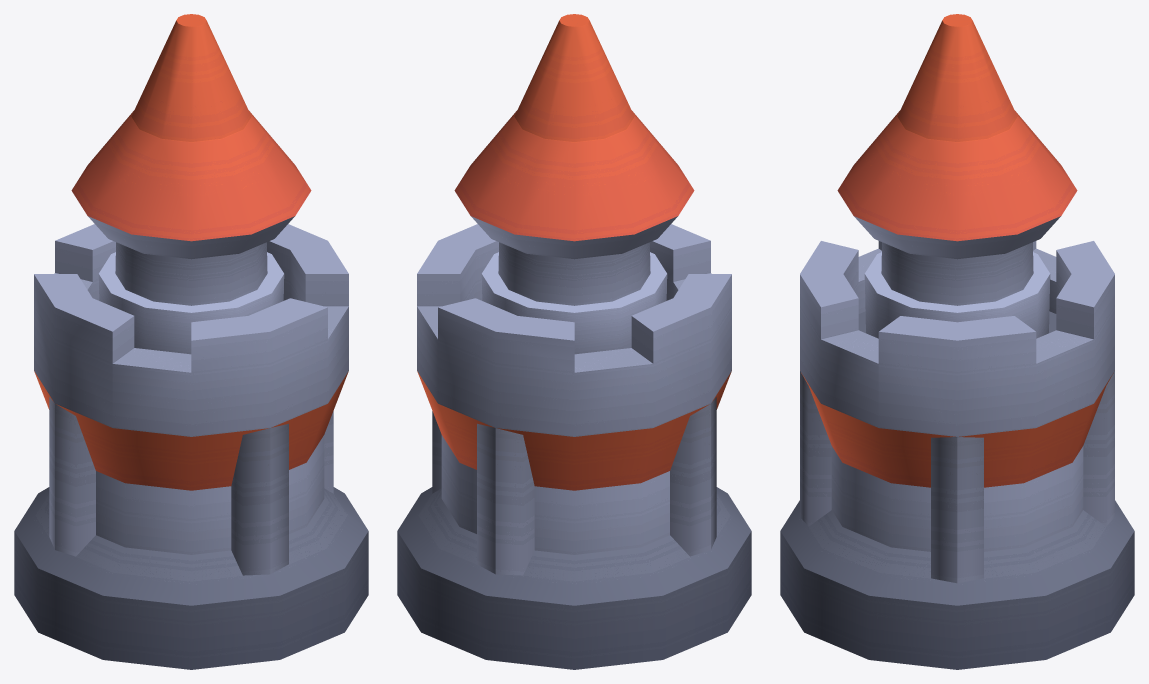
Rendered from tower-round-build-d.glb.
3 views of the same model, side by side, from view 1: azimuth 30°, elevation 25°; view 2: azimuth 150°, elevation 25°; view 3: azimuth 270°, elevation 25° (orthographic).
Visible parts, largest first — view 1: tower-round-build-d; view 2: tower-round-build-d; view 3: tower-round-build-d.
Boxes of the visible parts, x1,y1,x2,y2 form: tower-round-build-d: (14, 14, 368, 669); tower-round-build-d: (397, 14, 751, 669); tower-round-build-d: (780, 14, 1134, 669).
Size of the model in its own units: 1 by 1.79 by 1.
Materials: 1 (1 with a texture image).
